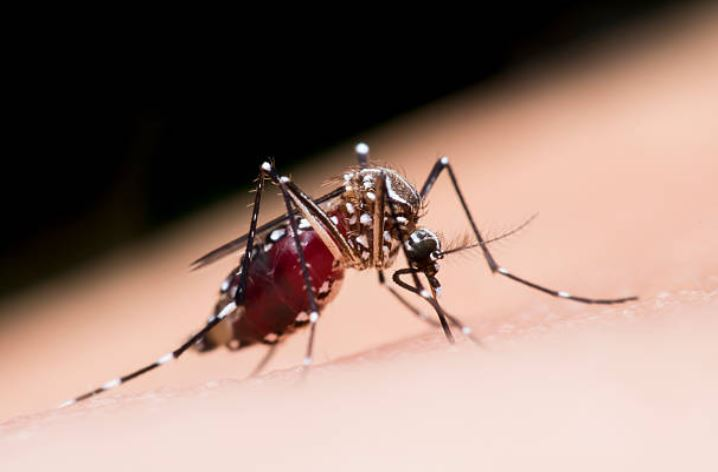dengue_mosquito: (169, 142, 640, 357)
